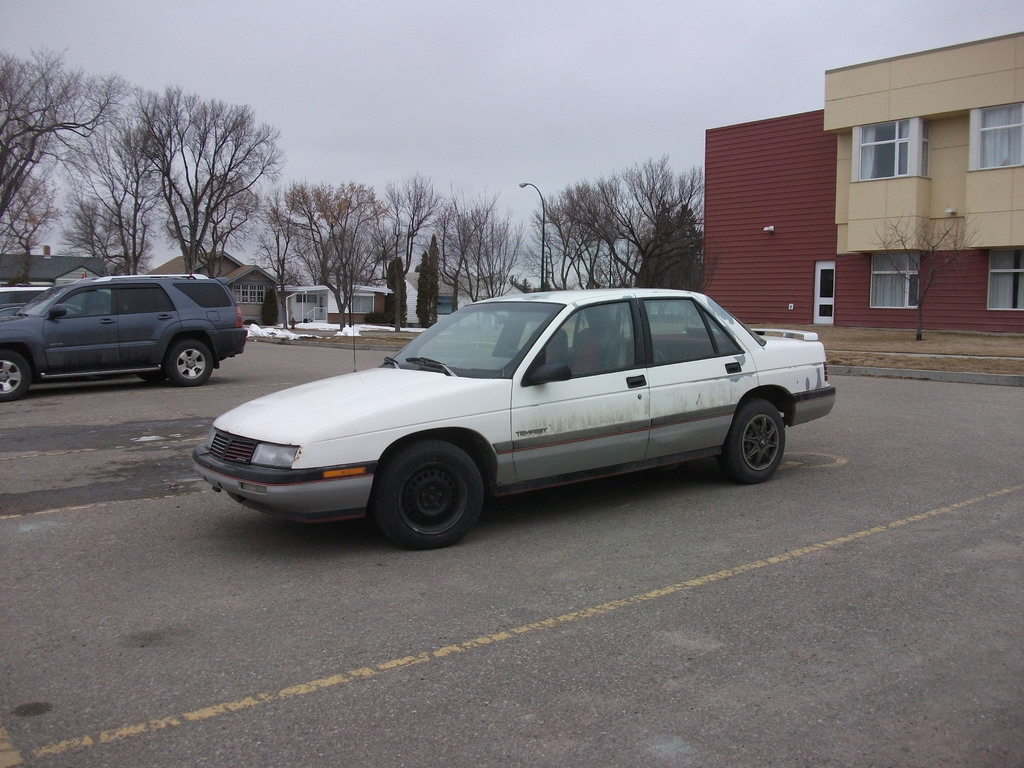Car: (192, 285, 835, 547), (0, 273, 245, 401)
